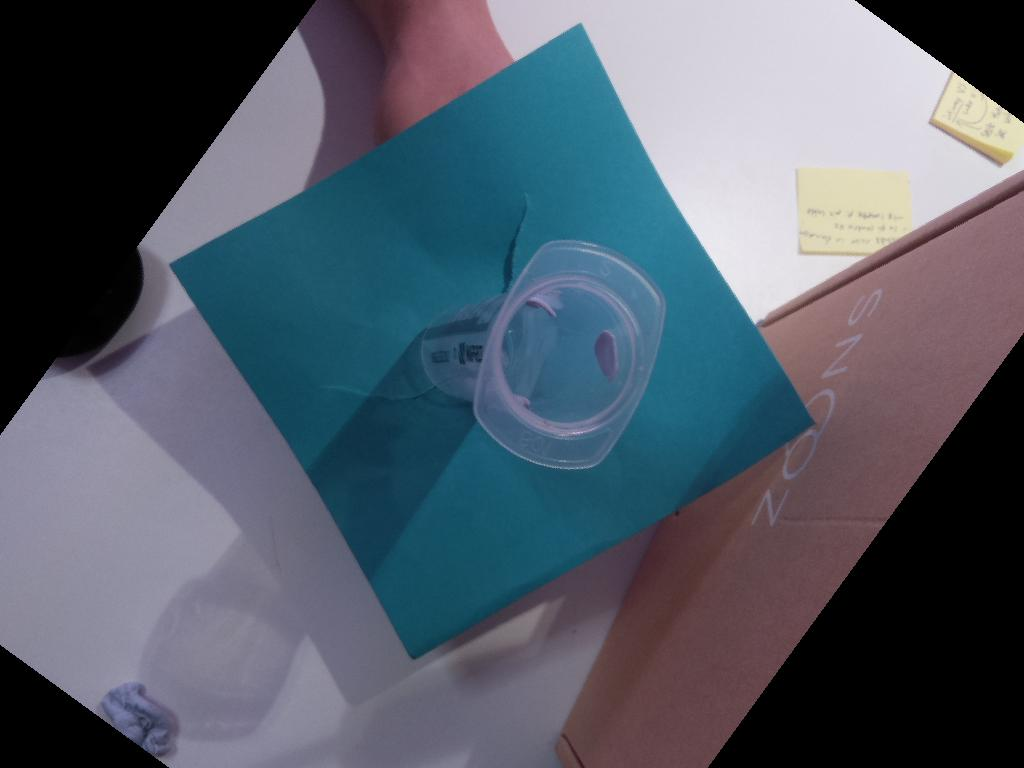dirty: (472, 238, 667, 473)
